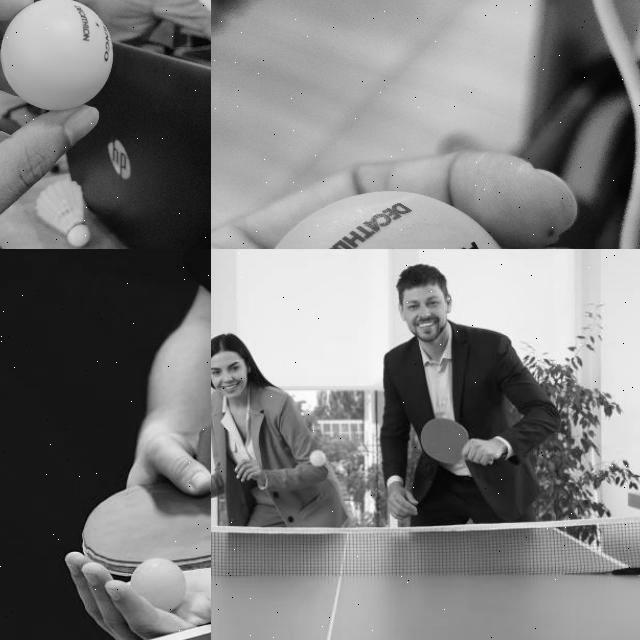ping-pong-ball: (0, 0, 113, 109), (130, 558, 186, 616), (311, 451, 323, 465)
